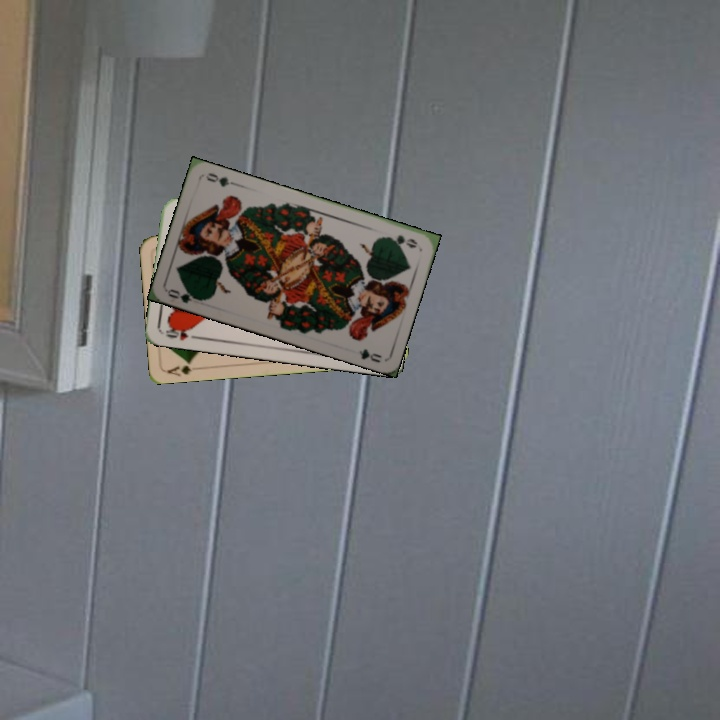GA: (164, 357, 204, 378)
GO: (164, 285, 205, 306), (380, 231, 420, 251)
HO: (161, 322, 200, 343)
